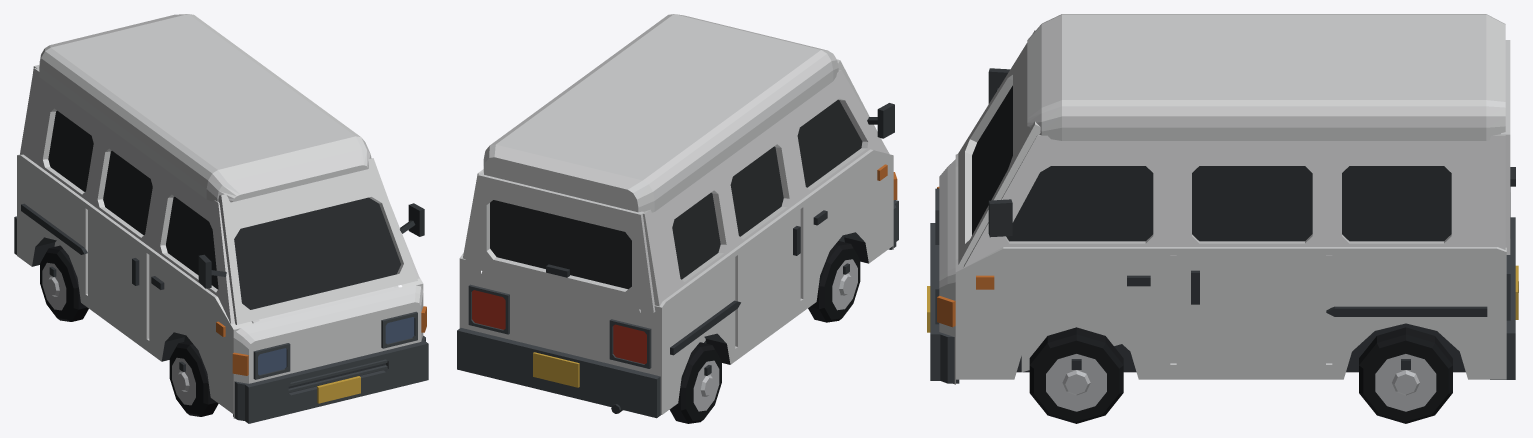
Rendered from kei-van-211ed5.glb.
3 views of the same model, side by side, from view 1: azimuth 30°, elevation 25°; view 2: azimuth 150°, elevation 25°; view 3: azimuth 270°, elevation 25° (orthographic). The views are drawn at different scales.
Visible parts, largest first — view 1: kei-delivery-van, wheel-fl, wheel-rl; view 2: kei-delivery-van, wheel-fl, wheel-rl; view 3: kei-delivery-van, wheel-fr, wheel-rr.
Part boxes in pixels (left/top/right/bottom): kei-delivery-van: left=14, top=14, right=428, bottom=423; wheel-fl: left=169, top=340, right=218, bottom=416; wheel-rl: left=40, top=245, right=88, bottom=321; kei-delivery-van: left=457, top=14, right=898, bottom=418; wheel-fl: left=808, top=241, right=860, bottom=322; wheel-rl: left=669, top=342, right=721, bottom=423; kei-delivery-van: left=927, top=14, right=1518, bottom=384; wheel-fr: left=1029, top=327, right=1123, bottom=423; wheel-rr: left=1359, top=327, right=1452, bottom=423.
Bounding box in the file's own units: 1.76 × 1.87 × 3.23.
